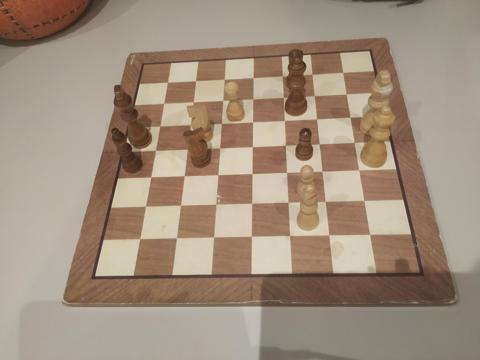xcorner: (337, 67, 348, 78), (171, 234, 181, 245), (246, 233, 257, 243), (285, 233, 296, 243), (140, 202, 150, 213), (175, 201, 185, 212), (210, 201, 221, 211), (321, 198, 332, 208), (178, 172, 189, 182), (212, 171, 223, 181), (247, 169, 257, 180), (354, 166, 365, 176), (281, 140, 291, 151), (279, 115, 290, 125), (187, 97, 198, 107), (217, 95, 227, 106), (247, 94, 258, 104), (309, 91, 320, 101), (219, 74, 229, 85), (134, 235, 144, 245), (208, 234, 218, 244), (325, 232, 335, 242), (366, 231, 376, 241), (247, 200, 257, 210), (284, 199, 294, 209), (360, 197, 370, 207), (145, 173, 155, 183), (282, 168, 292, 178), (318, 167, 328, 177), (150, 146, 160, 156), (182, 145, 192, 155), (214, 143, 224, 153), (247, 142, 257, 152), (315, 139, 325, 149), (350, 138, 360, 148), (154, 121, 164, 131), (185, 120, 195, 130), (216, 118, 226, 128), (247, 117, 257, 127), (312, 114, 322, 124), (345, 112, 355, 122), (158, 99, 168, 109), (278, 92, 288, 102), (341, 89, 351, 99), (162, 78, 172, 88), (190, 76, 200, 86), (248, 73, 258, 83), (277, 71, 287, 81), (307, 69, 317, 79)
